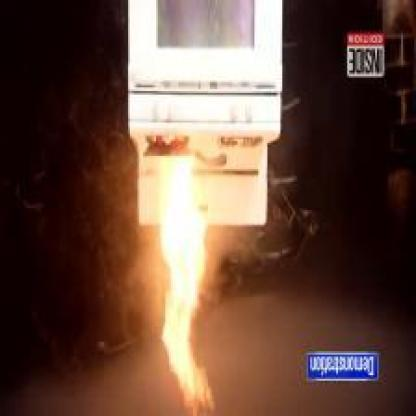Fire: (157, 157, 213, 411)
